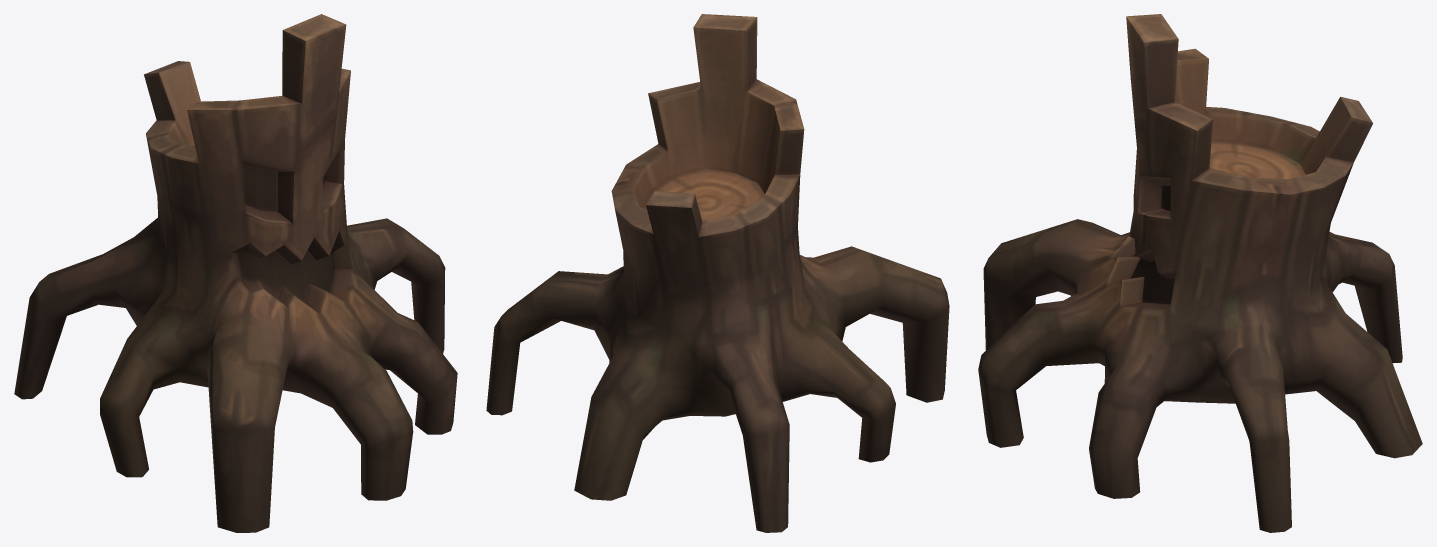
File: stump.fbx
3 renders of one model, left to right at view 1: azimuth 30°, elevation 25°; view 2: azimuth 150°, elevation 25°; view 3: azimuth 270°, elevation 25°, orthographic. The views are drawn at different scales.
Visible parts, largest first — view 1: stump; view 2: stump; view 3: stump.
Part boxes in pixels (x1=…): stump: x1=14, y1=14, x2=457, y2=532; stump: x1=486, y1=14, x2=949, y2=532; stump: x1=978, y1=14, x2=1422, y2=532.
Bounding box in the file's own units: 189 × 194 × 189.
